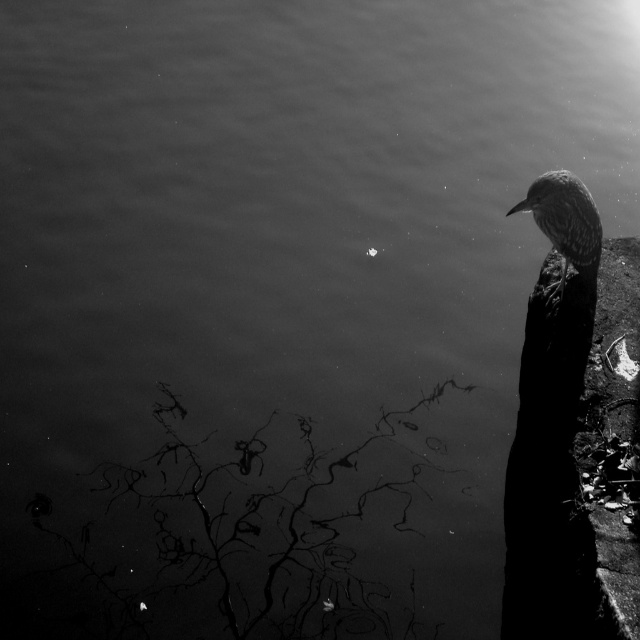Duck: (495, 171, 625, 585)
